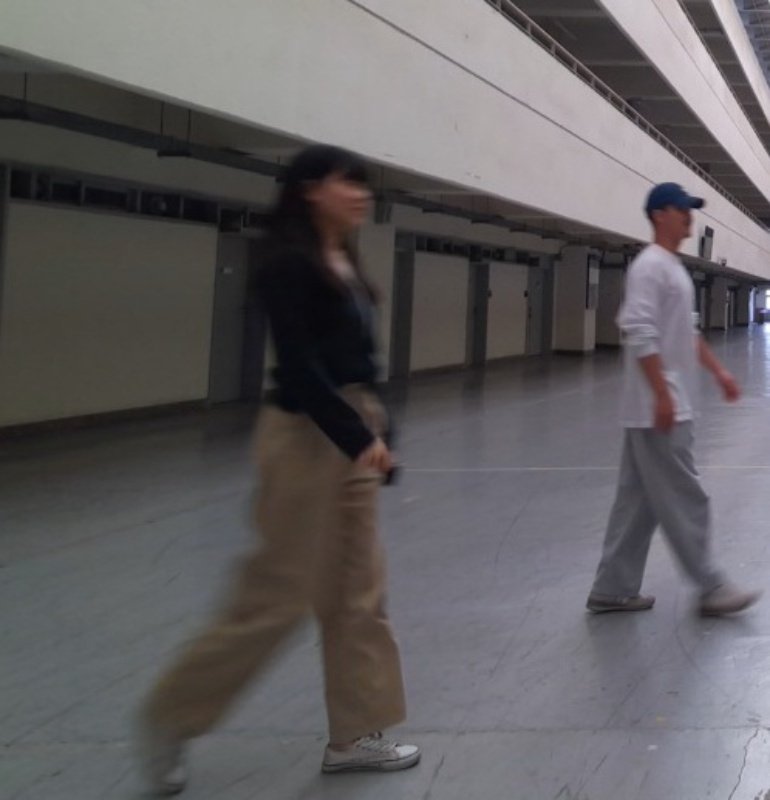person: (587, 179, 762, 621)
